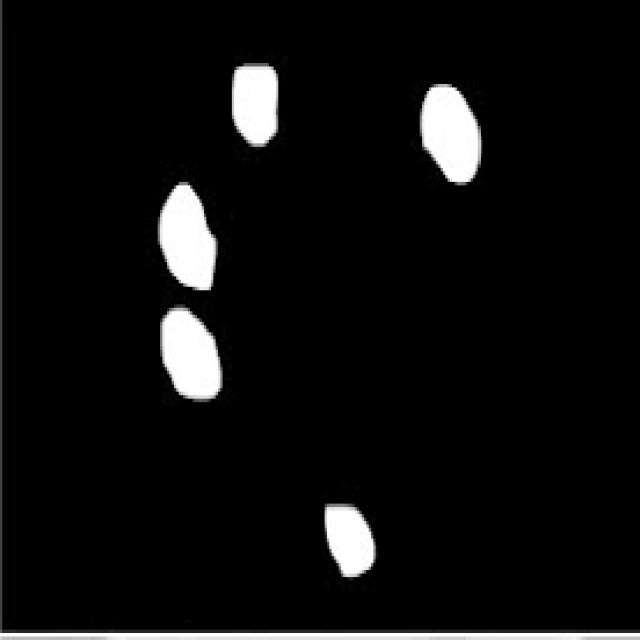cell: (424, 91, 483, 187), (162, 306, 223, 398), (162, 188, 217, 290), (326, 507, 375, 573), (234, 64, 277, 139)
